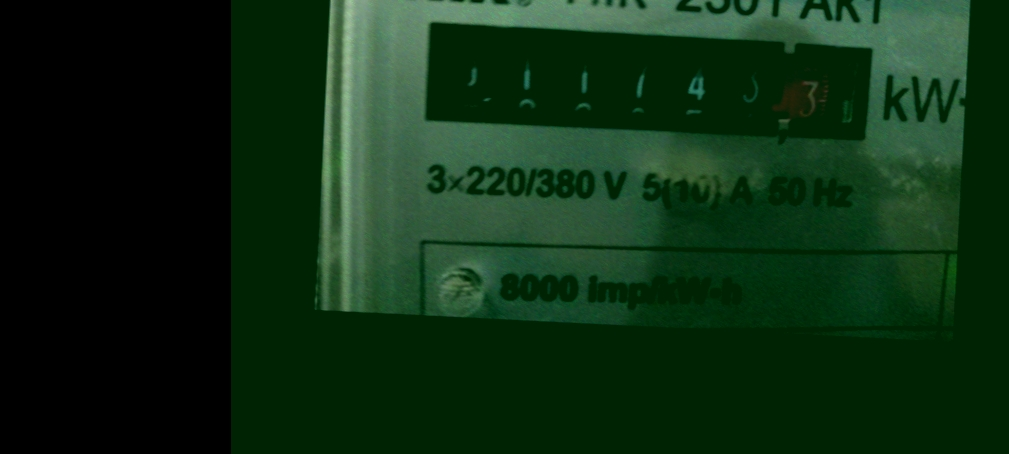0: (453, 42, 485, 90)
1: (573, 49, 597, 98), (518, 46, 538, 95)
3: (737, 59, 767, 107), (796, 76, 822, 121)
4: (683, 55, 713, 105)
7: (629, 54, 655, 103)
screen: (409, 12, 881, 153)
